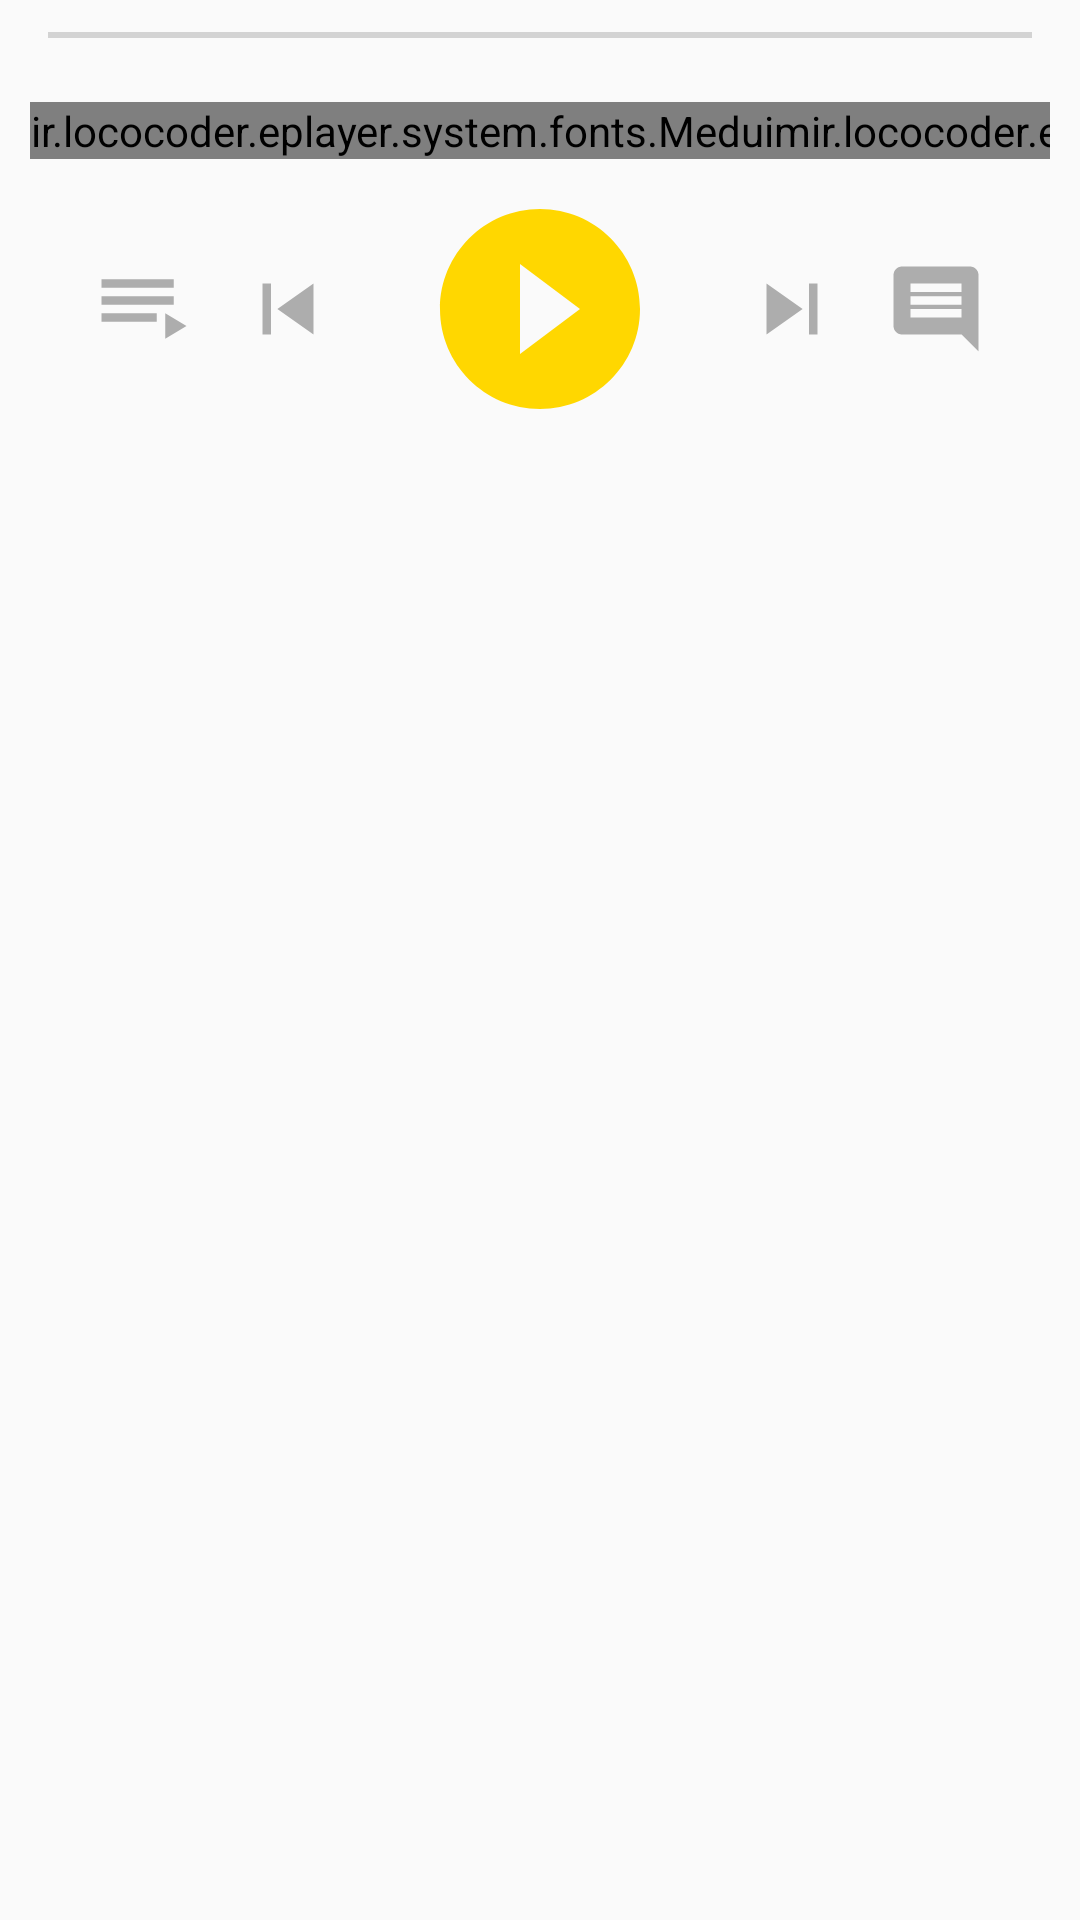

Where to tap for icons on this 1080 x 1920 app screen, as (x,y):
insert comment: (936,308)
play circle: (539,309)
playlist play: (143,309)
skip next: (792,309)
skip previous: (288,309)
